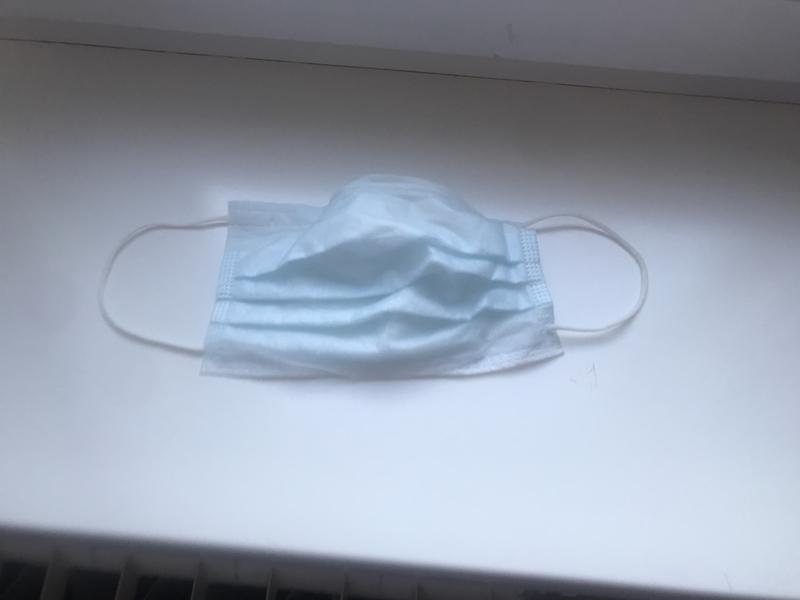medical_mask: (97, 177, 648, 378)
